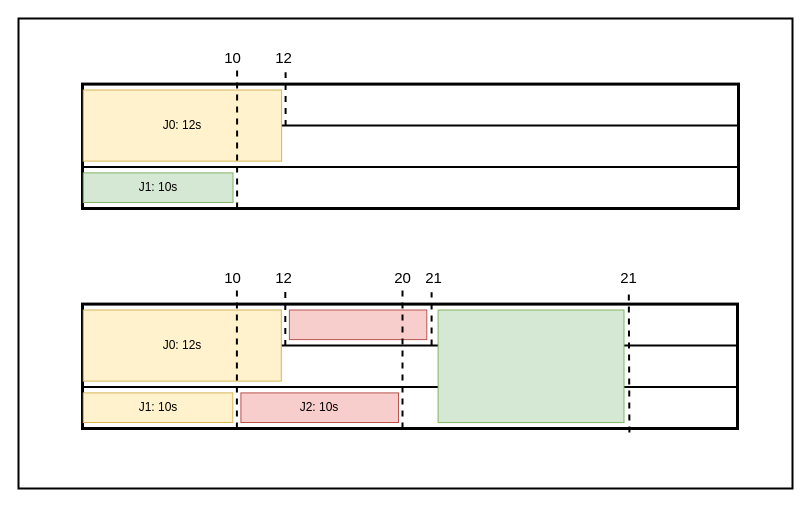
Image size: 810x506. Some labels were removed from this diagram. The box of each missing label's shape, as (x1, y1, x2, y2) in pixels:
J3: 9s: (288, 309, 427, 340)
J4: 11s: (437, 309, 624, 423)
